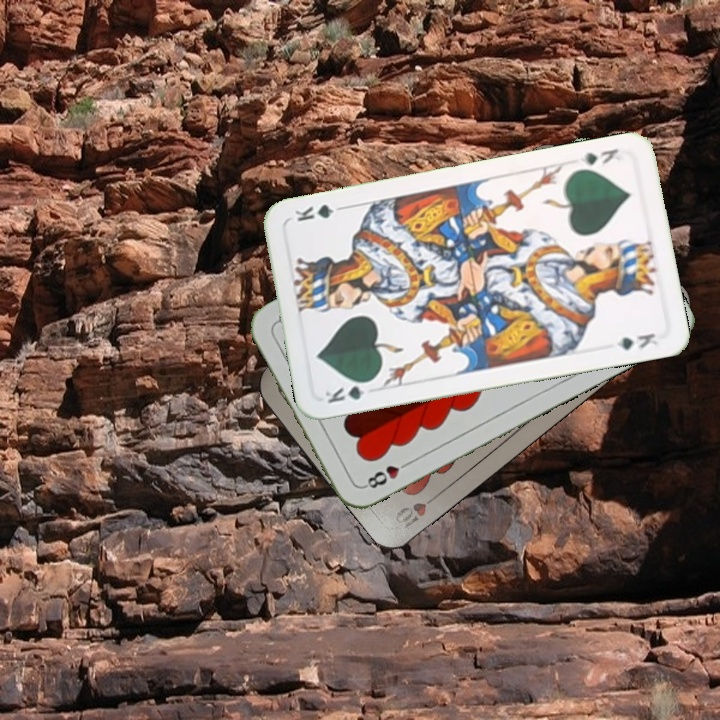GK: (321, 376, 377, 406), (575, 144, 621, 168)
H10: (389, 488, 444, 533)
H8: (360, 456, 414, 491)
